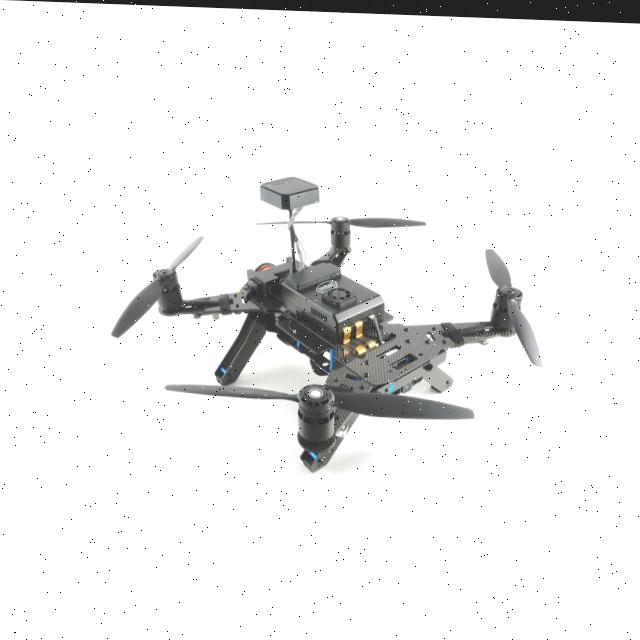drone: (89, 143, 572, 495)
